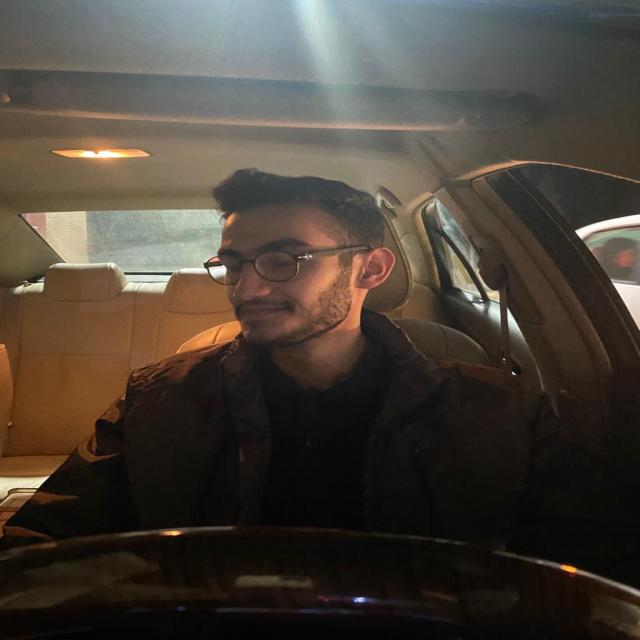drowsy: (199, 172, 399, 348)
